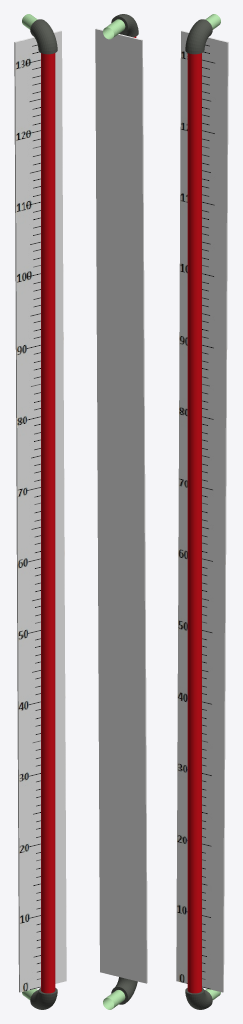
The model's file is VisorTanque.fbx.
3 renders of one model, left to right at view 1: azimuth 30°, elevation 25°; view 2: azimuth 150°, elevation 25°; view 3: azimuth 330°, elevation 25°, orthographic.
Parts seen in each view (by area): view 1: Visor; view 2: Visor; view 3: Visor.
Boxes of the visible parts, x1,y1,x2,y2 form: Visor: (14, 14, 66, 1009); Visor: (95, 14, 147, 1009); Visor: (176, 14, 228, 1009).
Bounding box in the file's own units: 6.89 × 139 × 6.49.
